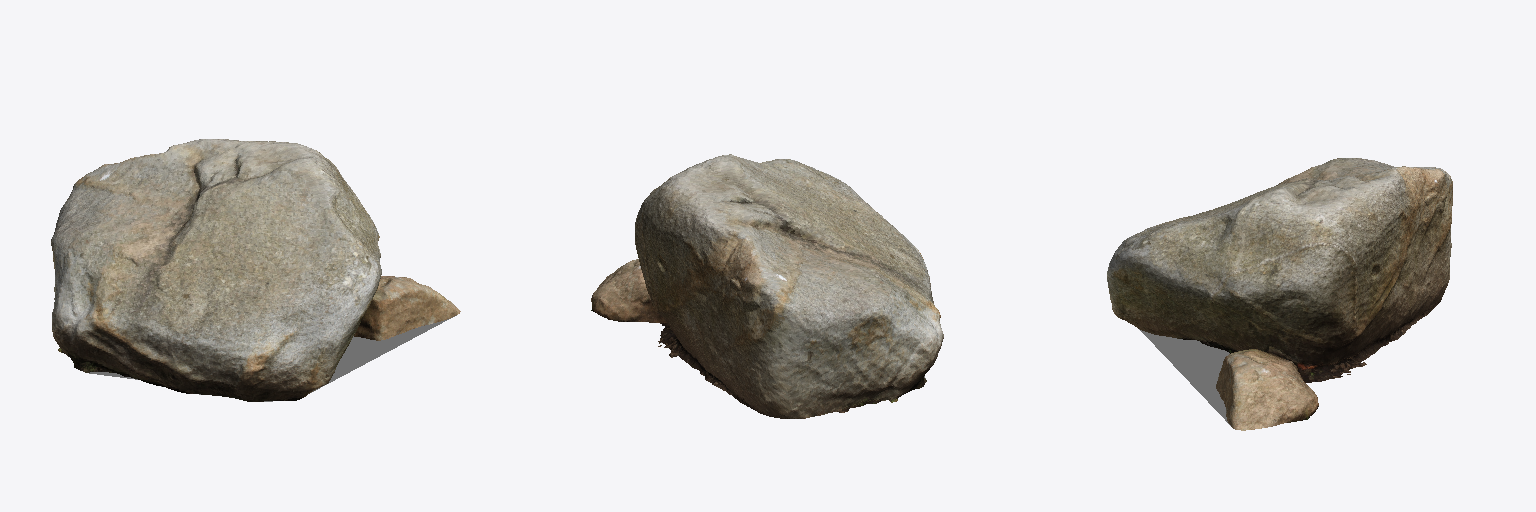
3 views of the same model, side by side, from view 1: azimuth 30°, elevation 25°; view 2: azimuth 150°, elevation 25°; view 3: azimuth 270°, elevation 25° (orthographic).
Parts seen in each view (by area): view 1: ItemName.002; view 2: ItemName.002; view 3: ItemName.002.
Boxes of the visible parts, x1=… form: ItemName.002: x1=51, y1=139, x2=460, y2=401; ItemName.002: x1=591, y1=154, x2=943, y2=418; ItemName.002: x1=1107, y1=158, x2=1452, y2=430.
Bounding box in the file's own units: 3.47 × 1.52 × 2.83.
2 materials, 1 textured.